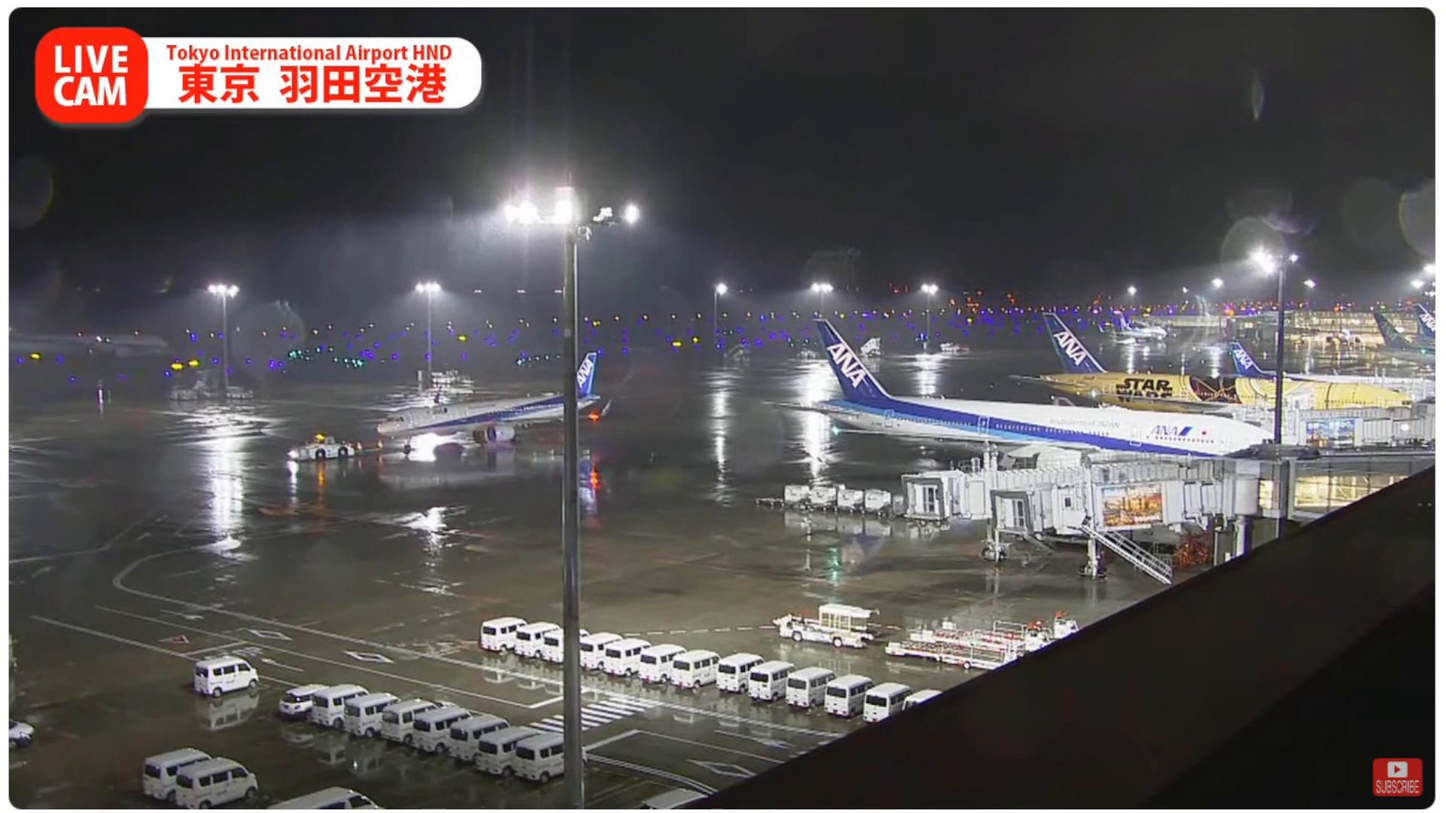APS: (292, 434, 354, 462)
Aerobridge: (898, 461, 1193, 525), (988, 473, 1227, 539)
Airplane: (377, 351, 613, 455)
Dolly: (782, 478, 897, 519)
JCPL: (914, 617, 1081, 654), (884, 636, 1033, 667)
Skyloader: (771, 602, 883, 649)
Window: (1289, 476, 1414, 509)
